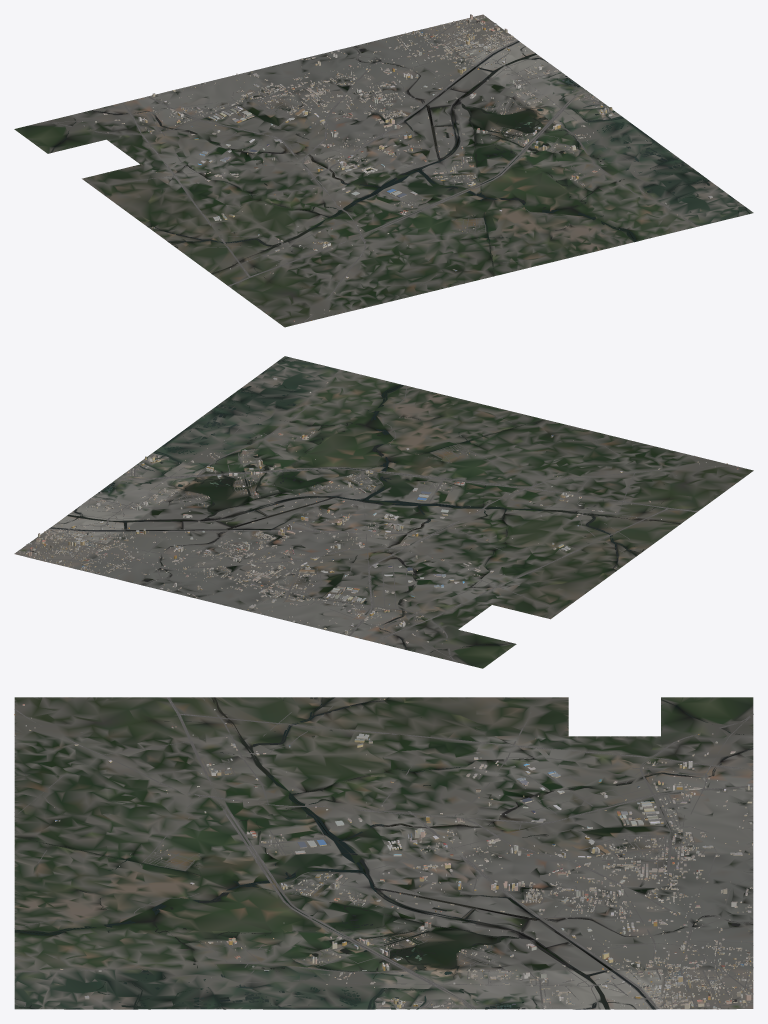
3 renders of one model, top to bottom at view 1: azimuth 30°, elevation 25°; view 2: azimuth 150°, elevation 25°; view 3: azimuth 270°, elevation 25°, orthographic. The views are drawn at different scales.
Visible parts, largest first — view 1: ground, roads, buildings, water; view 2: ground, roads, buildings, water; view 3: ground, roads, buildings, water.
Boxes of the visible parts, x1=… form: ground: x1=14, y1=14, x2=753, y2=327; roads: x1=39, y1=16, x2=745, y2=322; buildings: x1=84, y1=14, x2=712, y2=321; water: x1=52, y1=41, x2=750, y2=304; ground: x1=14, y1=356, x2=753, y2=668; roads: x1=24, y1=359, x2=735, y2=662; buildings: x1=19, y1=377, x2=738, y2=644; water: x1=50, y1=357, x2=695, y2=652; ground: x1=14, y1=697, x2=753, y2=1009; roads: x1=14, y1=697, x2=753, y2=1009; buildings: x1=14, y1=698, x2=753, y2=1009; water: x1=14, y1=697, x2=753, y2=1009.
Size of the model in its own units: 11221 by 109 by 11225.
